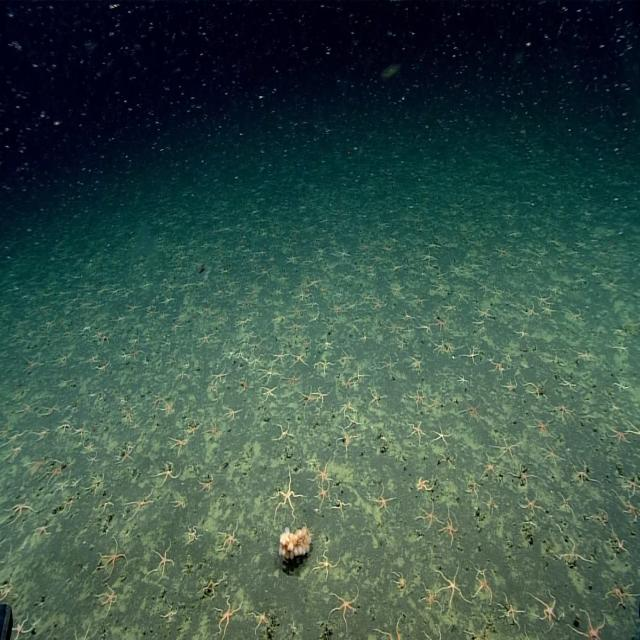brittle-stars: (273, 469, 301, 520), (438, 568, 467, 608), (214, 595, 242, 636), (330, 588, 359, 626), (572, 608, 606, 640), (100, 540, 126, 577), (532, 592, 557, 628), (150, 543, 174, 580), (128, 487, 156, 518), (556, 536, 587, 564), (5, 495, 35, 523), (607, 578, 638, 604), (217, 522, 240, 557), (314, 550, 339, 582), (417, 504, 440, 533), (10, 613, 34, 640), (502, 596, 522, 628), (157, 459, 181, 485), (97, 584, 119, 612), (372, 486, 394, 514), (441, 512, 460, 544), (475, 574, 495, 604), (528, 412, 551, 437), (496, 437, 518, 463), (570, 460, 592, 486), (422, 584, 441, 614), (250, 607, 270, 634), (620, 470, 640, 496), (520, 492, 542, 515), (523, 379, 546, 401), (541, 444, 561, 469), (314, 458, 332, 484), (482, 454, 500, 480), (609, 424, 630, 446), (432, 424, 451, 448), (464, 401, 484, 423), (409, 420, 427, 444), (554, 404, 575, 424), (478, 452, 494, 478), (68, 624, 94, 640), (416, 475, 436, 495), (338, 428, 358, 448), (116, 444, 134, 466), (560, 375, 580, 394), (334, 494, 351, 516), (184, 523, 200, 546), (35, 519, 51, 542), (0, 577, 14, 603), (170, 436, 189, 455), (276, 422, 294, 442), (212, 366, 230, 385), (380, 355, 398, 374), (317, 483, 331, 507), (262, 384, 280, 402), (489, 356, 505, 376), (462, 345, 478, 365), (485, 362, 501, 382), (368, 386, 383, 407), (626, 417, 640, 439), (386, 318, 403, 336), (198, 476, 215, 494), (410, 389, 426, 408), (340, 348, 356, 367), (314, 386, 329, 406), (206, 420, 220, 441), (316, 356, 333, 373), (534, 289, 551, 306), (262, 364, 279, 381), (428, 396, 443, 415), (346, 413, 361, 432), (302, 387, 316, 407), (224, 406, 241, 422), (290, 351, 306, 368), (286, 372, 302, 389), (273, 348, 289, 365), (478, 306, 495, 322), (172, 494, 188, 511), (409, 354, 424, 372), (238, 376, 253, 394), (433, 314, 448, 332), (319, 335, 334, 353), (162, 399, 176, 418), (413, 292, 428, 309), (390, 280, 404, 298), (185, 421, 200, 437), (502, 380, 517, 396), (341, 401, 356, 417), (128, 300, 143, 316), (196, 328, 210, 345), (417, 321, 432, 336), (250, 352, 264, 368), (524, 304, 538, 320), (74, 423, 88, 439), (288, 319, 302, 335), (200, 332, 213, 349), (89, 452, 101, 467), (86, 442, 98, 456), (457, 374, 468, 387)
